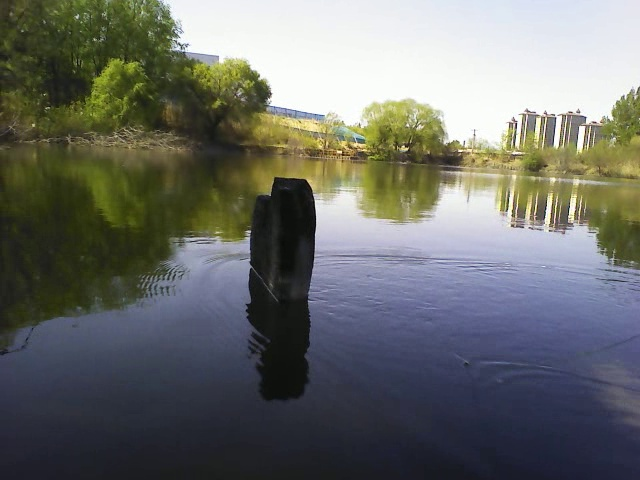rock: (249, 169, 322, 303)
